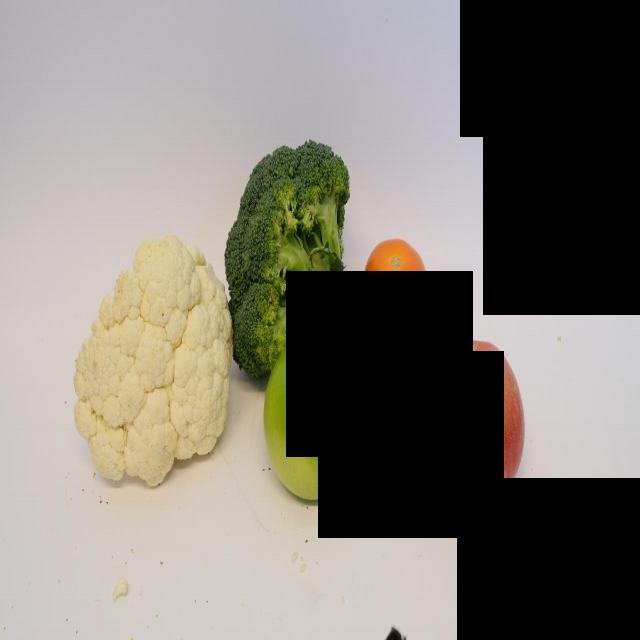apple: (426, 334, 526, 503), (262, 334, 358, 503)
broccoli: (227, 135, 367, 380)
cauliflower: (74, 229, 230, 484)
tomato: (366, 237, 430, 369)
